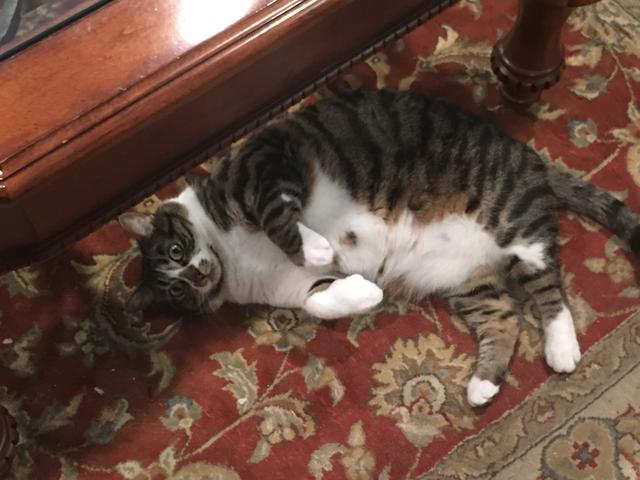playdoh: (121, 93, 640, 405)
